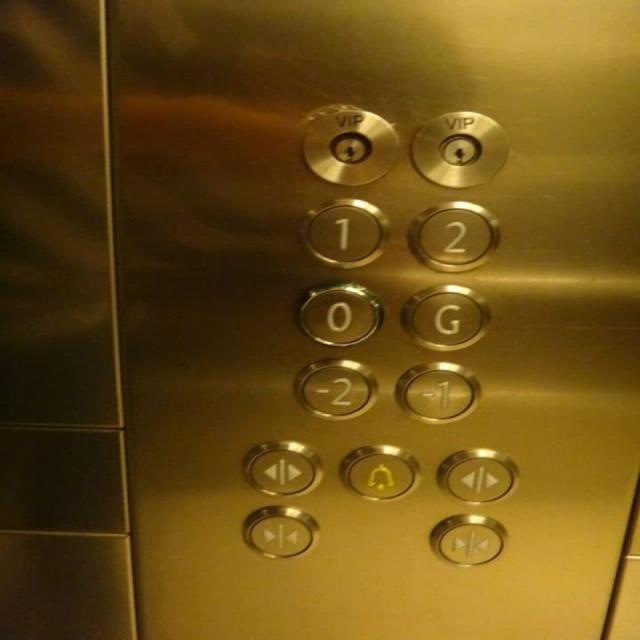-1: (387, 358, 485, 427)
-2: (286, 354, 382, 424)
0: (292, 278, 386, 349)
1: (289, 195, 395, 273)
2: (399, 198, 505, 275)
G: (394, 281, 498, 354)
alarm: (332, 439, 426, 506)
close: (232, 499, 327, 566), (420, 507, 516, 573)
keyhole: (400, 106, 511, 193), (292, 105, 403, 191)
open: (430, 443, 526, 510), (233, 437, 328, 504)
